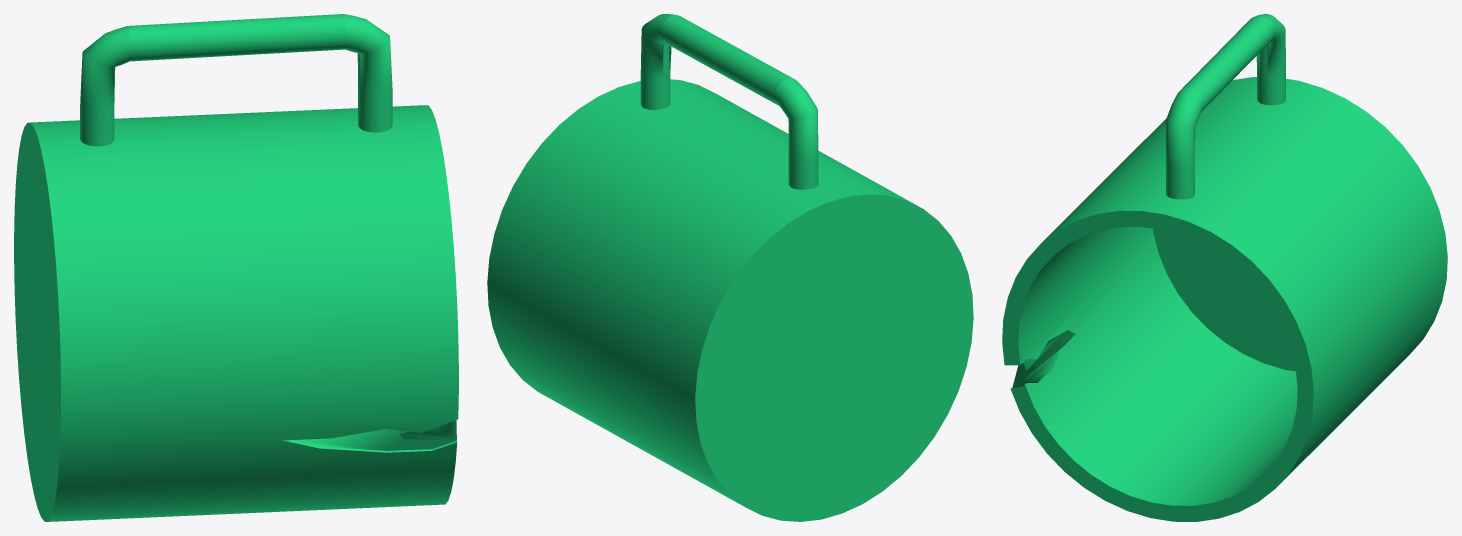
The model's file is Caneca(mesa).fbx.
The picture shows the model from 3 angles, left to right: view 1: azimuth 30°, elevation 25°; view 2: azimuth 150°, elevation 25°; view 3: azimuth 270°, elevation 25°; orthographic projection. The views are drawn at different scales.
Visible parts, largest first — view 1: Cylinder.001; view 2: Cylinder.001; view 3: Cylinder.001.
Part boxes in pixels (x1=…): Cylinder.001: x1=14, y1=14, x2=458, y2=521; Cylinder.001: x1=487, y1=14, x2=973, y2=521; Cylinder.001: x1=1002, y1=14, x2=1447, y2=521.
Size of the model in its own units: 26.52 by 26.37 by 26.51.
